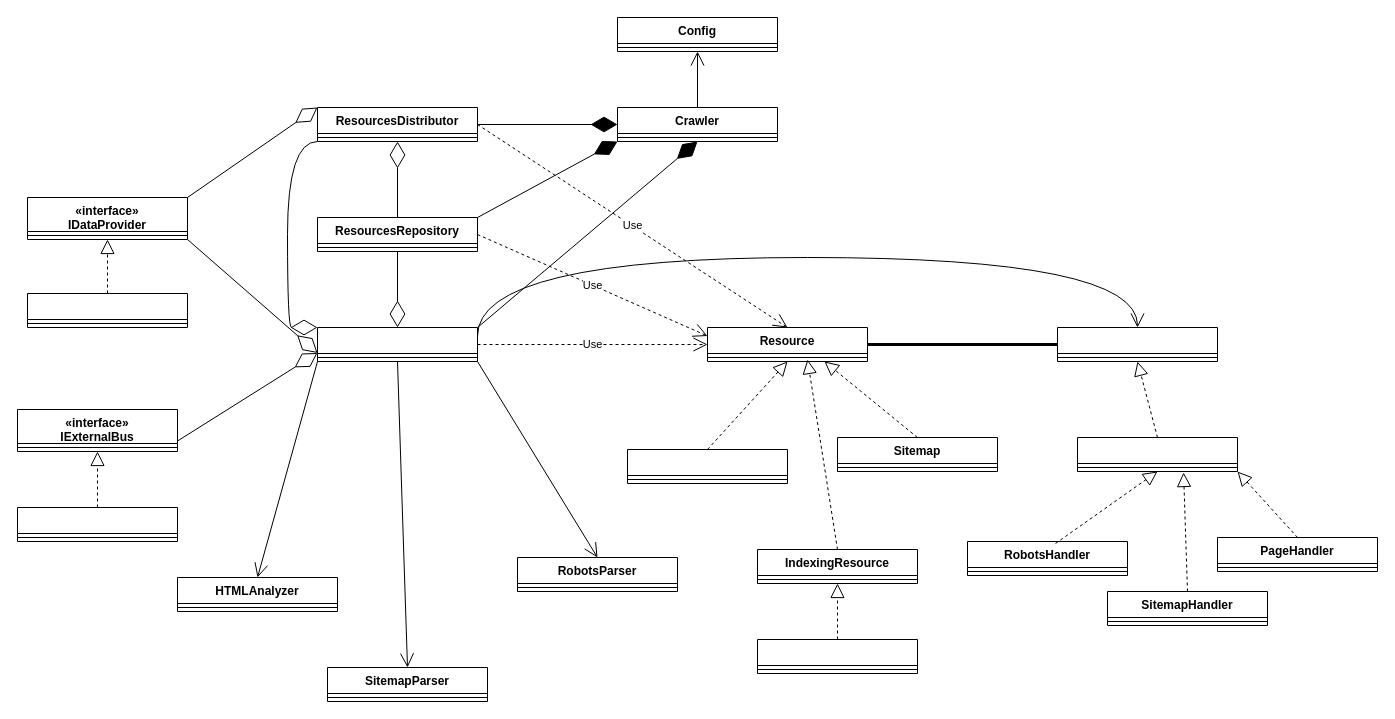
The diagram is 1395 pixels wide and 719 high, and some of its shapes have lost their labels. The centre of each missing label's shape, as x and y in pixels:
AMQPBus: pixel 97 524
HttpResourceHandler: pixel 1157 454
Page: pixel 837 656
PostgresDataProvider: pixel 107 310
ResourceHandler: pixel 1137 344
ResourceProcessor: pixel 397 344
RobotsTxt: pixel 707 466
